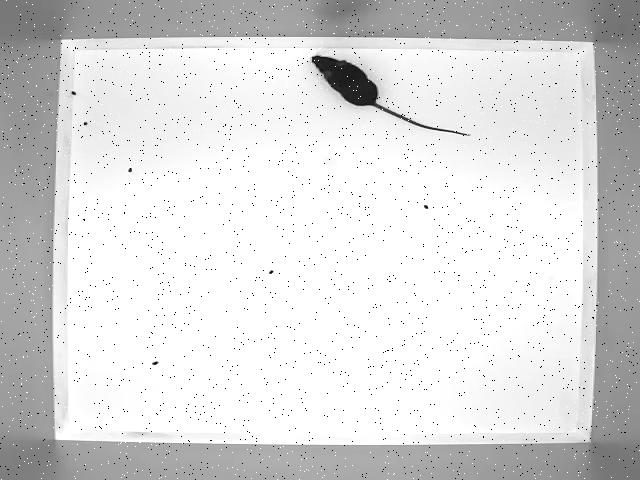Tikus: (312, 55, 468, 139)
